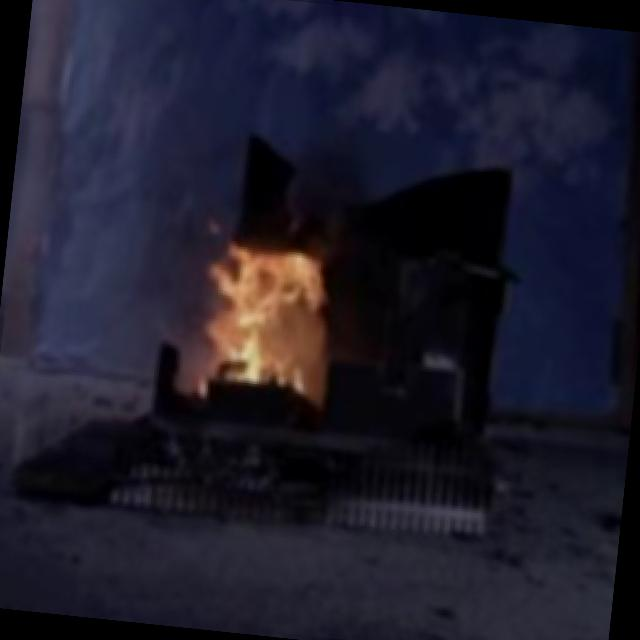fire: (181, 201, 359, 416)
